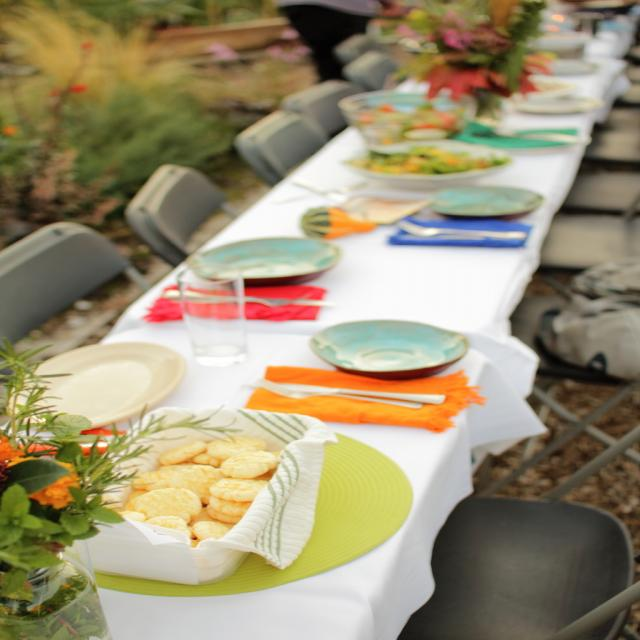non-organic waste: (268, 305, 525, 386), (21, 334, 182, 452), (200, 233, 304, 321)
